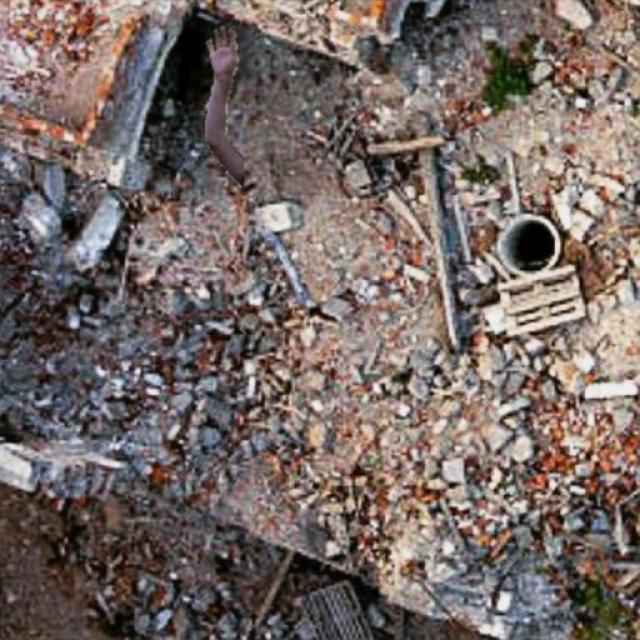Person in Rubble: (205, 26, 243, 186)
